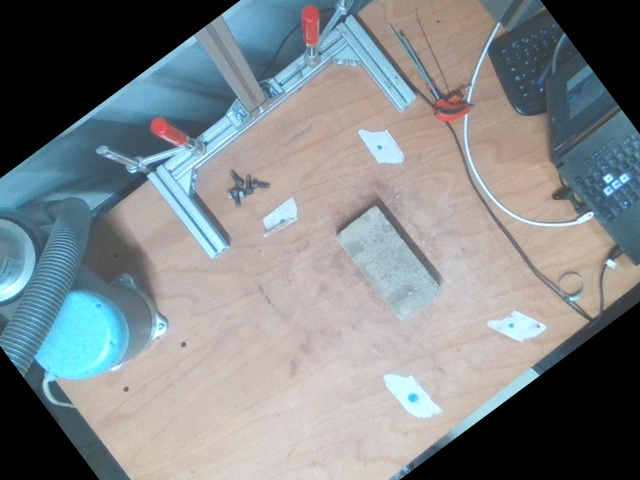brick: (339, 207, 440, 319)
